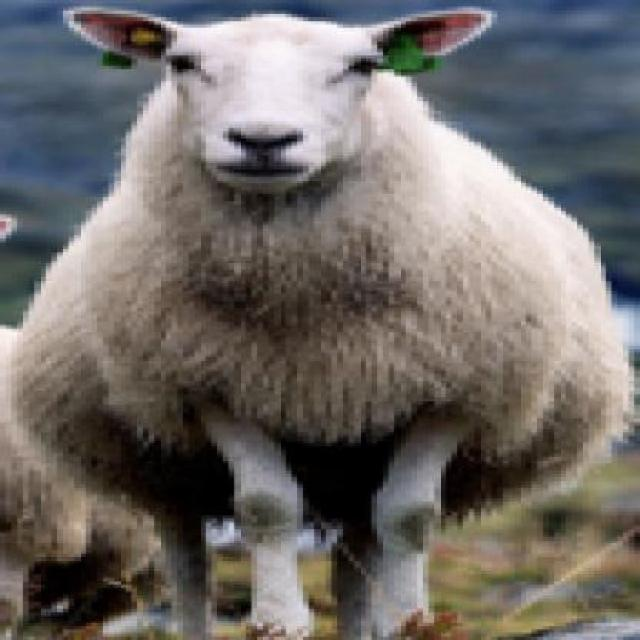Sheep: (0, 3, 635, 637)
